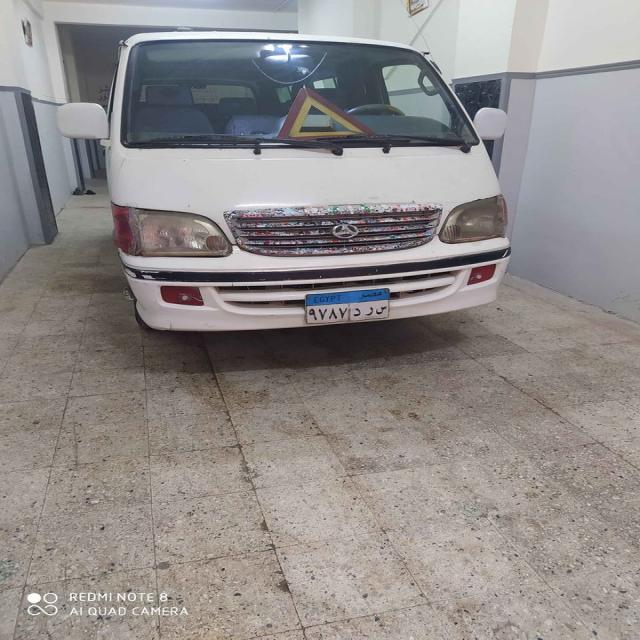License Plate: (304, 288, 390, 326)
